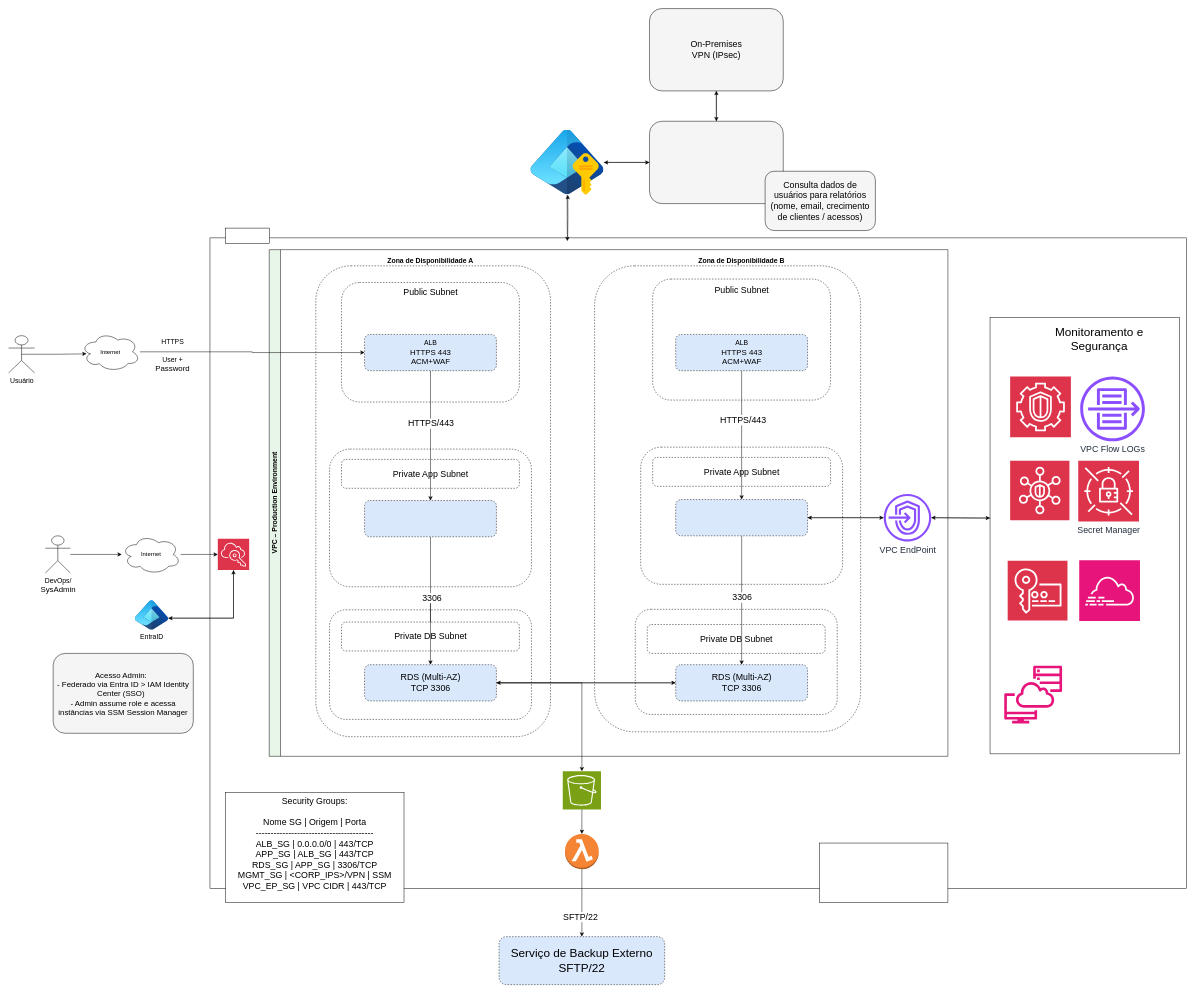
This 1195x993 diagram has some shape labels left out. The centre of each missing label's shape, as x and y in pixels:
"AWS" goes at [247,235].
"AWS Key Management Service" goes at [1037,590].
"CloudTrail" goes at [1109,590].
"EC2 WEB-1 HTTPS/443 IAM Roles + SSM SSH bloqueado" goes at [430,518].
"EC2 WEB-2 HTTPS/443 IAM Roles + SSM SSH bloqueado" goes at [741,517].
"GuardDuty" goes at [1040,406].
"IAM Identity Center" goes at [233,554].
"Interface Endpoint: - SSM - Secrets Manager - KMS" goes at [883,872].
"Lambda (SFTP push via VPN)" goes at [581,851].
"Private API Autorização via OAuth 2.0 com access tokens JWT" goes at [716,162].
"S3 (SSE-KMS)" goes at [581,790].
"Security Hub" goes at [1039,490].
"SSM Session Manager" goes at [1033,694].
